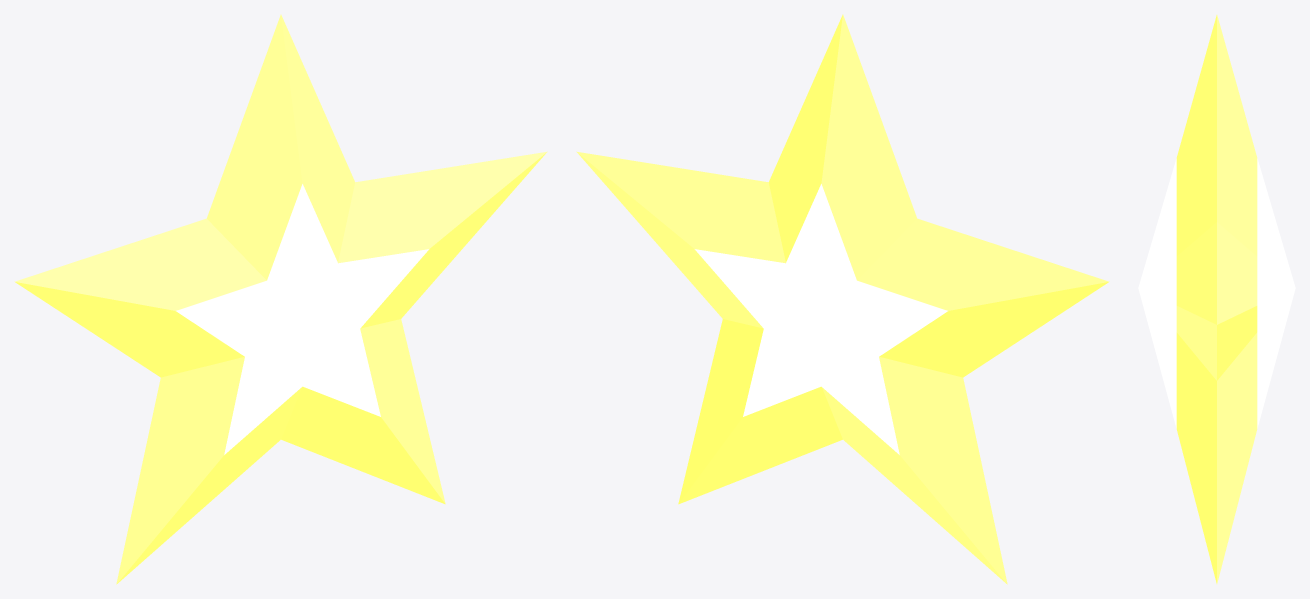
File: star.glb
3 views of the same model, side by side, from view 1: azimuth 30°, elevation 25°; view 2: azimuth 150°, elevation 25°; view 3: azimuth 270°, elevation 25° (orthographic). The views are drawn at different scales.
Parts seen in each view (by area): view 1: star; view 2: star; view 3: star.
Boxes of the visible parts, x1,y1,x2,y2 form: star: (14, 14, 547, 584); star: (576, 14, 1109, 584); star: (1138, 15, 1295, 583).
Size of the model in its own units: 0.5992 by 0.5698 by 0.164.
